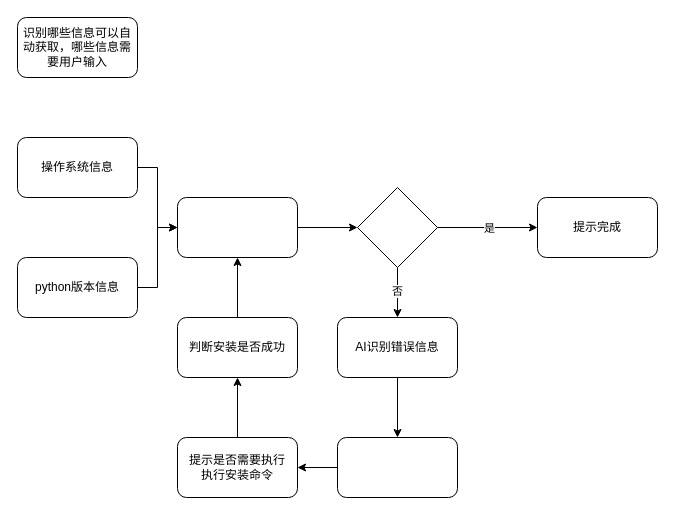
The diagram is 675 pixels wide and 515 high, and some of its shapes have lost their labels. The shapes that lost their labels are listed below. From the top down, each one's centre as x and y in pixels, then its label:
At [237,227]: "执行依赖安装 获取requirements.txt".
At [397,227]: "安装完成？".
At [397,467]: "返回固定格式命令".
